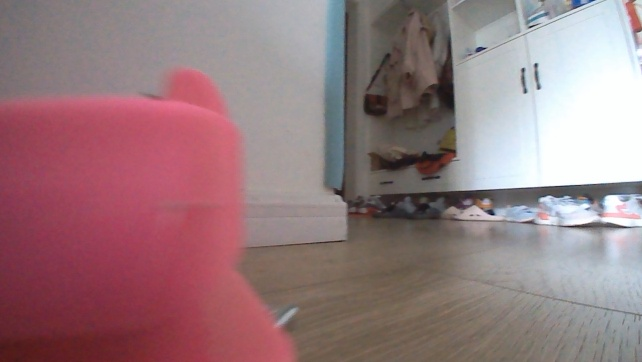shoe: (532, 191, 602, 229)
slipper: (450, 204, 505, 224)
